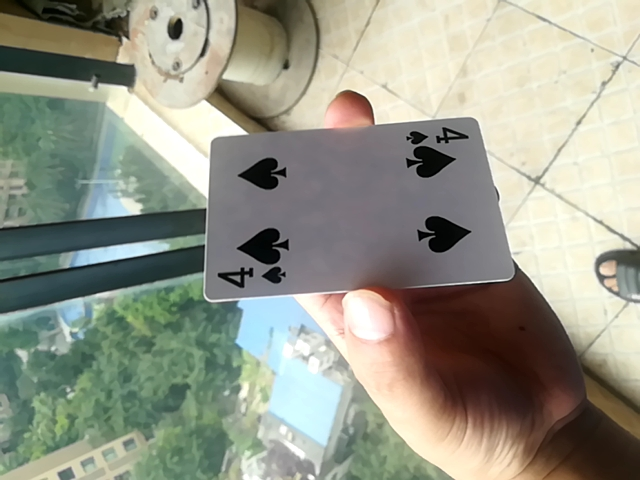ht 4: (200, 110, 509, 305)
